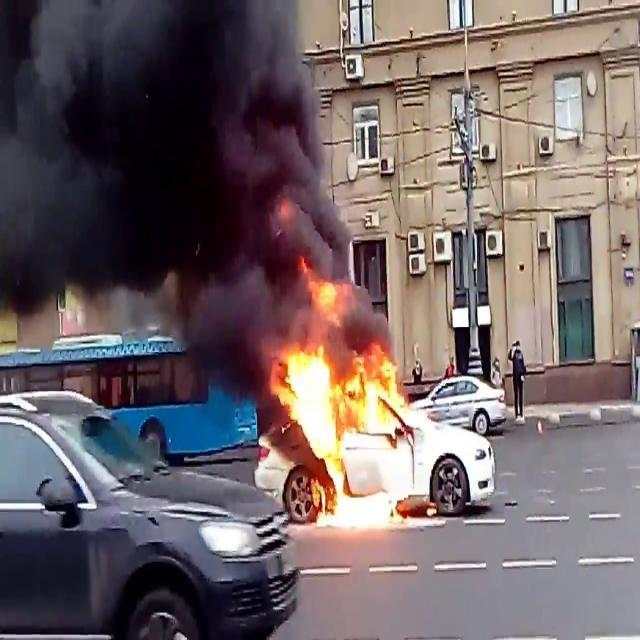Fire: (269, 282, 415, 522)
Smoke: (1, 0, 353, 355)
